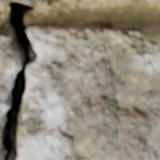brick: (17, 0, 45, 5), (0, 0, 12, 2)
broken_brick: (18, 23, 159, 159), (0, 29, 19, 133), (0, 145, 2, 159)
crack: (0, 0, 41, 159)
